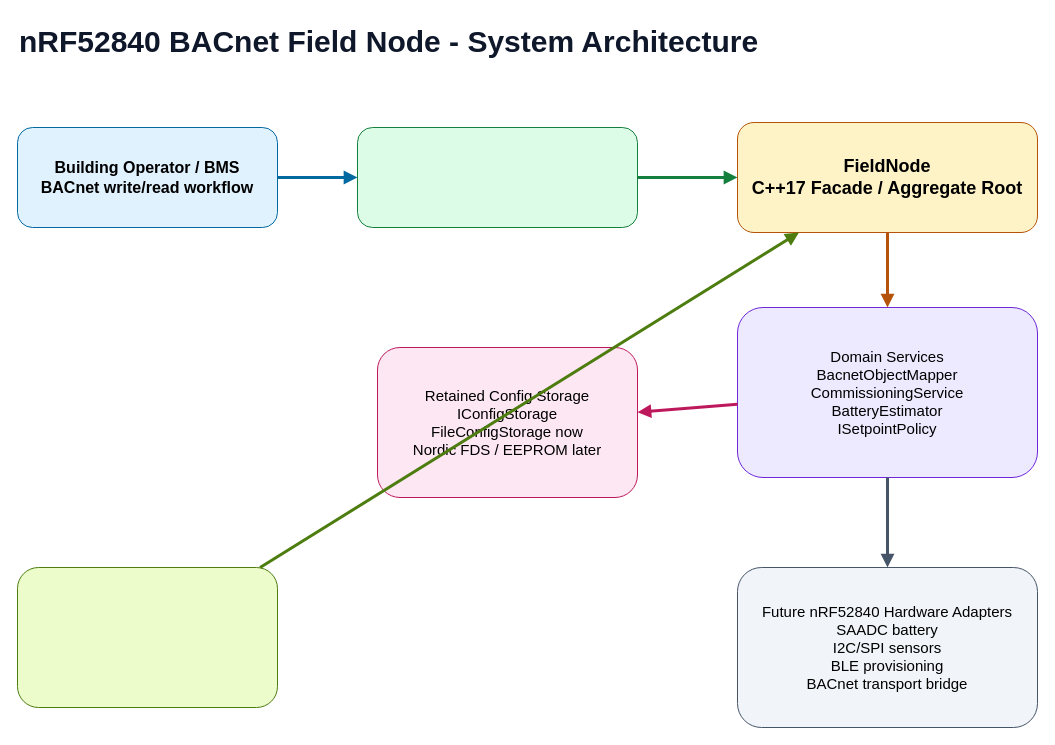
The diagram is 1055 pixels wide and 745 high, and some of its shapes have lost their labels. Each missing label, with the centre of its shape:
"BACnet Gateway / Bridge Object values and setpoint writes" goes at point 497,177.
"Host Validation CMake + CTest CLI smoke checks GitHub Actions" goes at point 147,637.
